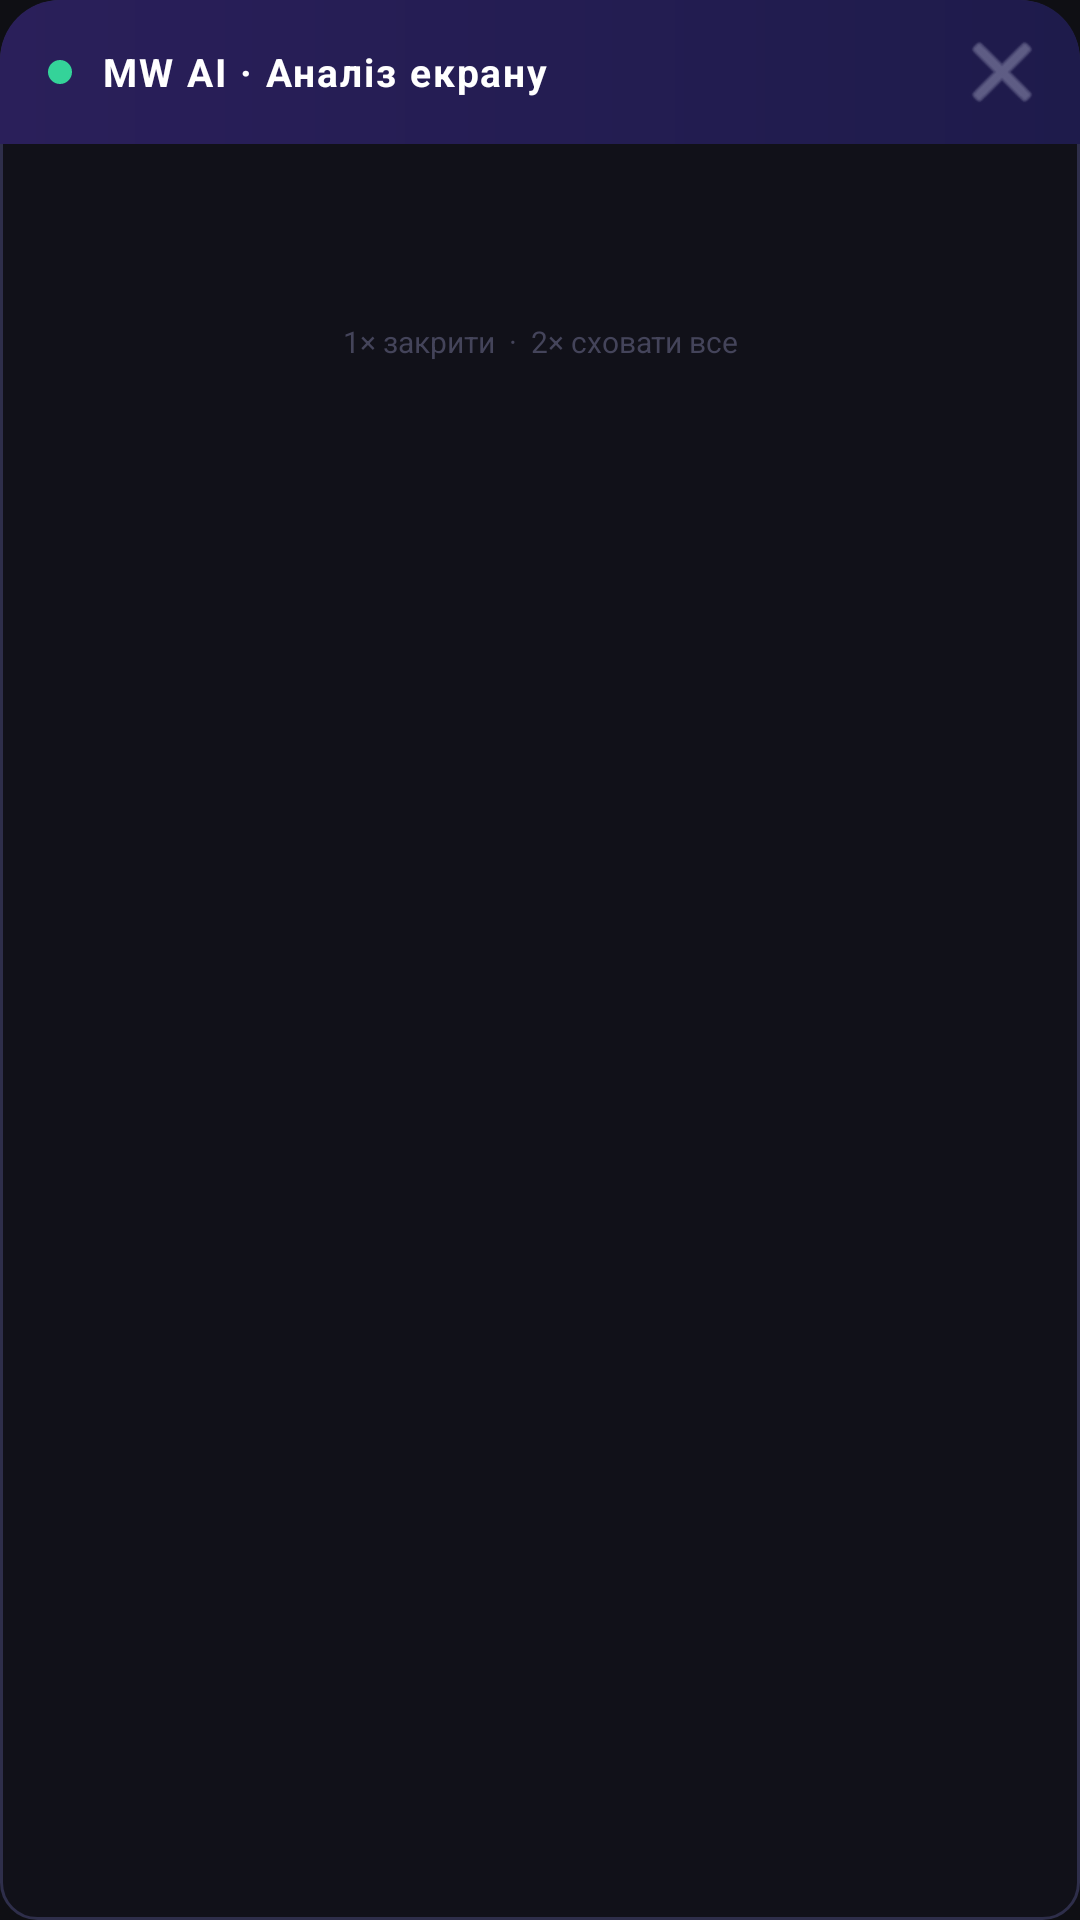

Screen size 1080x1920. Icon name, then its center in pixels as (x=x, y=y):
Закрити: (x=1002, y=72)
